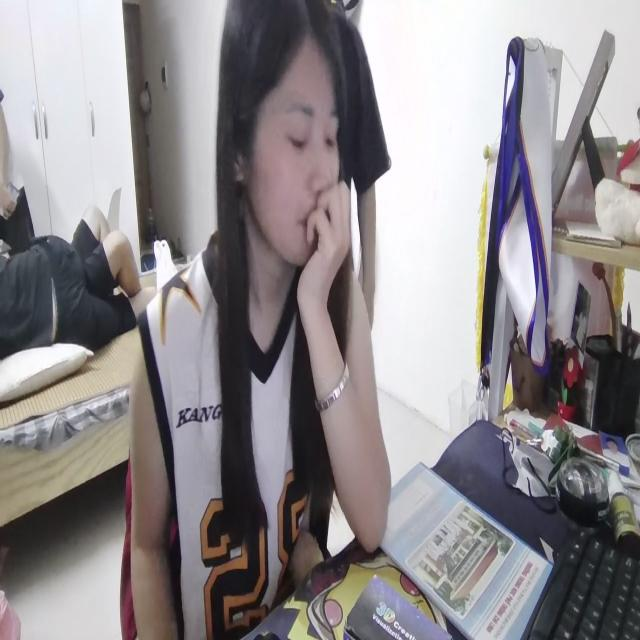book: (378, 458, 554, 640)
student: (134, 4, 392, 640)
